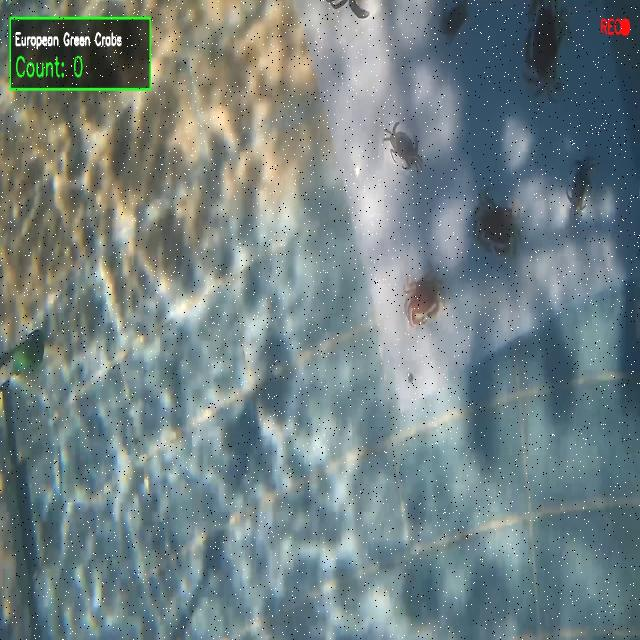European_Green_Crab: (380, 114, 432, 182), (563, 150, 603, 219), (328, 0, 377, 22)
